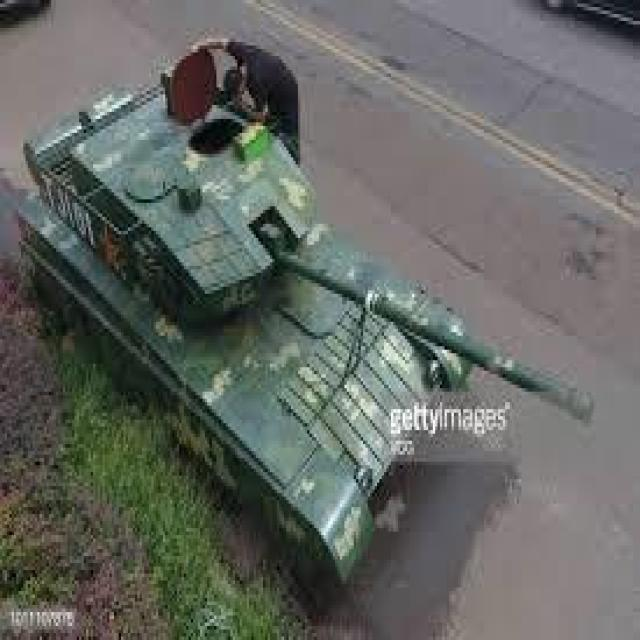Tanks: (22, 59, 525, 584)
